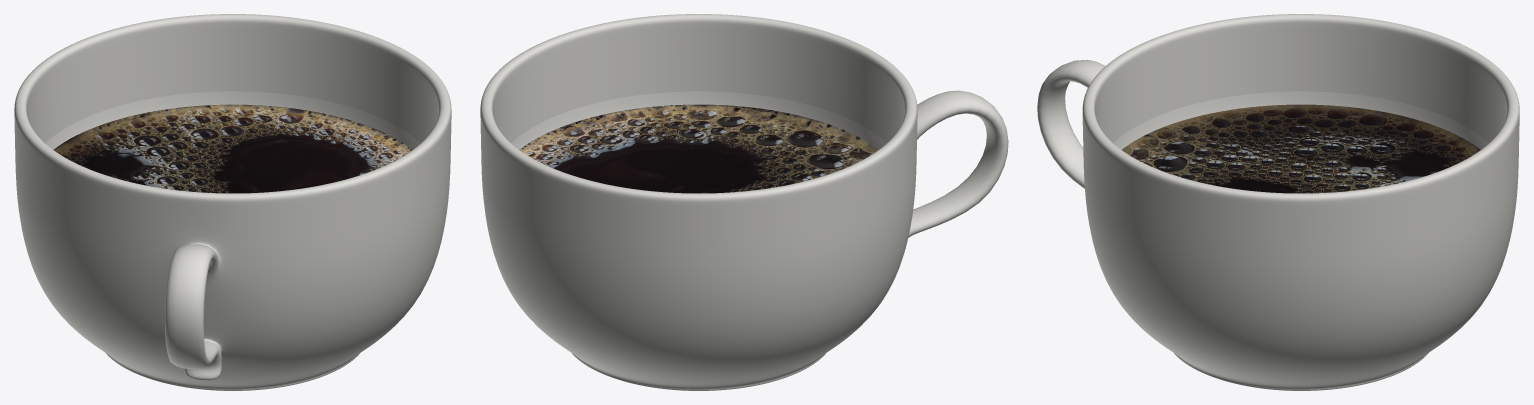
Rendered from taza de cafe negro.fbx.
3 views of the same model, side by side, from view 1: azimuth 30°, elevation 25°; view 2: azimuth 150°, elevation 25°; view 3: azimuth 270°, elevation 25° (orthographic).
Parts seen in each view (by area): view 1: Cup of Coffee; view 2: Cup of Coffee; view 3: Cup of Coffee.
Boxes of the visible parts, x1=… form: Cup of Coffee: x1=14, y1=14, x2=451, y2=390; Cup of Coffee: x1=480, y1=14, x2=1008, y2=390; Cup of Coffee: x1=1037, y1=14, x2=1519, y2=390.
Size of the model in its own units: 10.34 by 5.99 by 11.41.
Materials: 3 (1 with a texture image).
